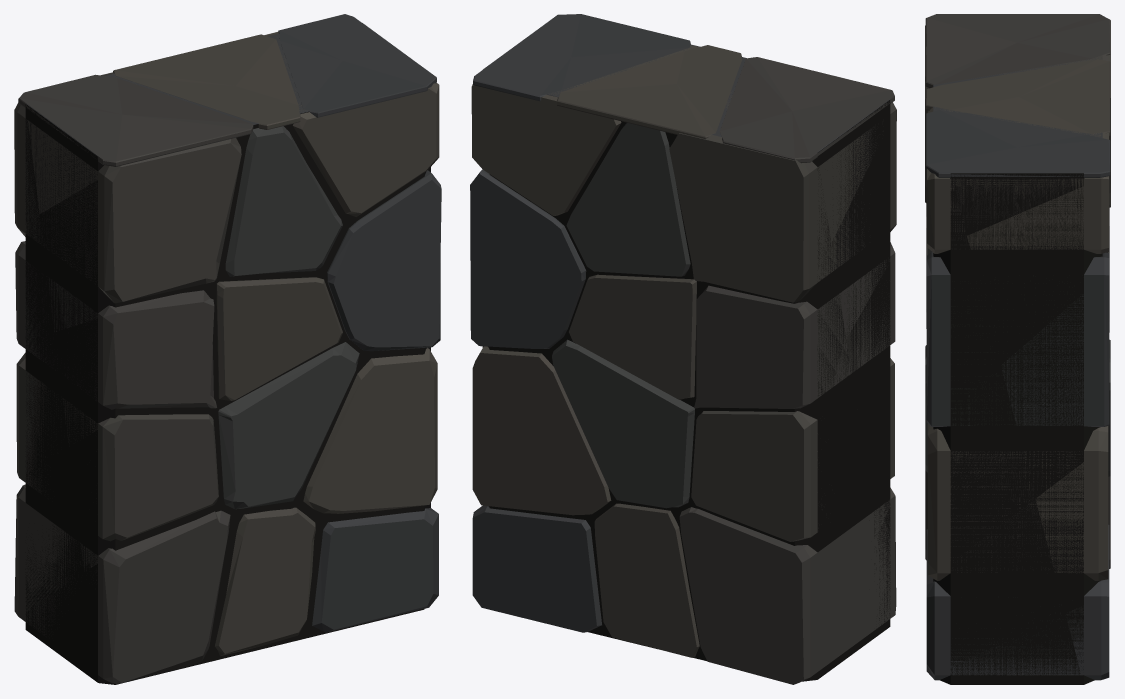
Rendered from Wall_2m_A.fbx.
3 renders of one model, left to right at view 1: azimuth 30°, elevation 25°; view 2: azimuth 150°, elevation 25°; view 3: azimuth 270°, elevation 25°, orthographic. The views are drawn at different scales.
Visible parts, largest first — view 1: Wall_2m_A; view 2: Wall_2m_A; view 3: Wall_2m_A.
Boxes of the visible parts, left/top/right/bottom form: Wall_2m_A: left=14, top=14, right=441, bottom=684; Wall_2m_A: left=470, top=14, right=896, bottom=684; Wall_2m_A: left=925, top=14, right=1110, bottom=684.
Bounding box in the file's own units: 2 × 3 × 0.987.
Materials: 1 (1 with a texture image).
